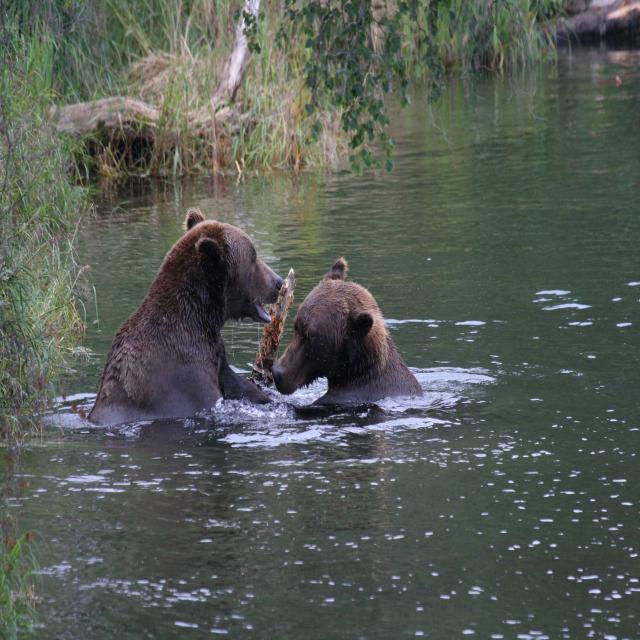bear face: (106, 205, 283, 417), (275, 256, 416, 399)
